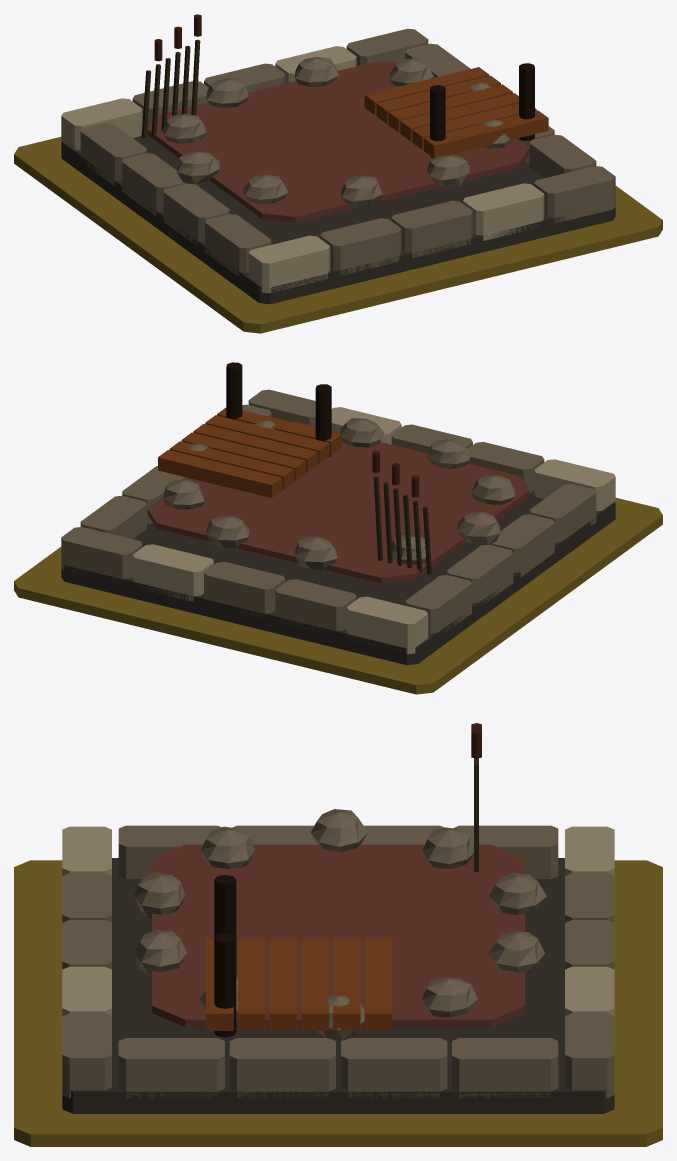
File: pond_t3.glb
The picture shows the model from 3 angles, top to bottom: view 1: azimuth 30°, elevation 25°; view 2: azimuth 150°, elevation 25°; view 3: azimuth 270°, elevation 25°; orthographic projection. The views are drawn at different scales.
Visible parts, largest first — view 1: MMR | pond | T03 Architecture.001, MMR | pond | Tier 03 Ground.001; view 2: MMR | pond | T03 Architecture.001, MMR | pond | Tier 03 Ground.001; view 3: MMR | pond | T03 Architecture.001, MMR | pond | Tier 03 Ground.001.
Part boxes in pixels (<box>): MMR | pond | T03 Architecture.001: <box>61,14,615,304</box>; MMR | pond | Tier 03 Ground.001: <box>14,137,662,333</box>; MMR | pond | T03 Architecture.001: <box>61,362,615,665</box>; MMR | pond | Tier 03 Ground.001: <box>14,498,662,694</box>; MMR | pond | T03 Architecture.001: <box>62,723,614,1113</box>; MMR | pond | Tier 03 Ground.001: <box>14,860,662,1146</box>.
Bounding box in the file's own units: 2.35 × 0.88 × 2.35.
1 material, 1 textured.
